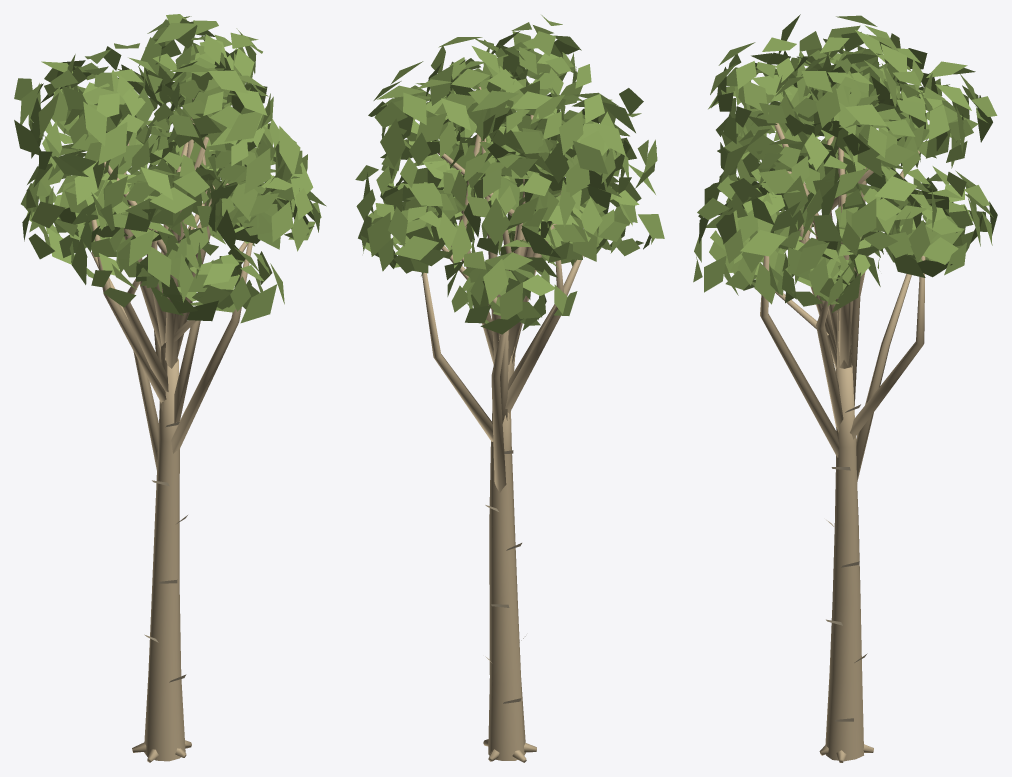
File: birch-single.glb
The picture shows the model from 3 angles, left to right: view 1: azimuth 30°, elevation 25°; view 2: azimuth 150°, elevation 25°; view 3: azimuth 270°, elevation 25°; orthographic projection. The views are drawn at different scales.
Visible parts, largest first — view 1: tree_birch-single_LOD0; view 2: tree_birch-single_LOD0; view 3: tree_birch-single_LOD0.
Boxes of the visible parts, left/top/right/bottom form: tree_birch-single_LOD0: left=14, top=14, right=326, bottom=762; tree_birch-single_LOD0: left=355, top=15, right=664, bottom=762; tree_birch-single_LOD0: left=693, top=14, right=997, bottom=762.
Size of the model in its own units: 5.1 by 12.61 by 4.87.
